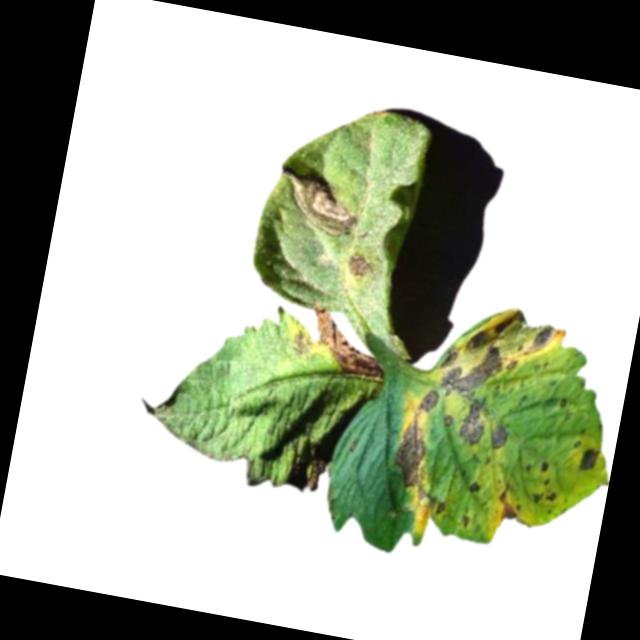Early_blight: (435, 295, 569, 416), (300, 299, 393, 381), (276, 163, 372, 240), (388, 412, 438, 492), (457, 394, 494, 447), (495, 484, 522, 526), (577, 442, 604, 473), (416, 386, 443, 416), (348, 251, 375, 277), (489, 423, 510, 450), (529, 486, 556, 507), (468, 478, 483, 493), (538, 459, 552, 475), (441, 412, 455, 427), (433, 501, 446, 516)
